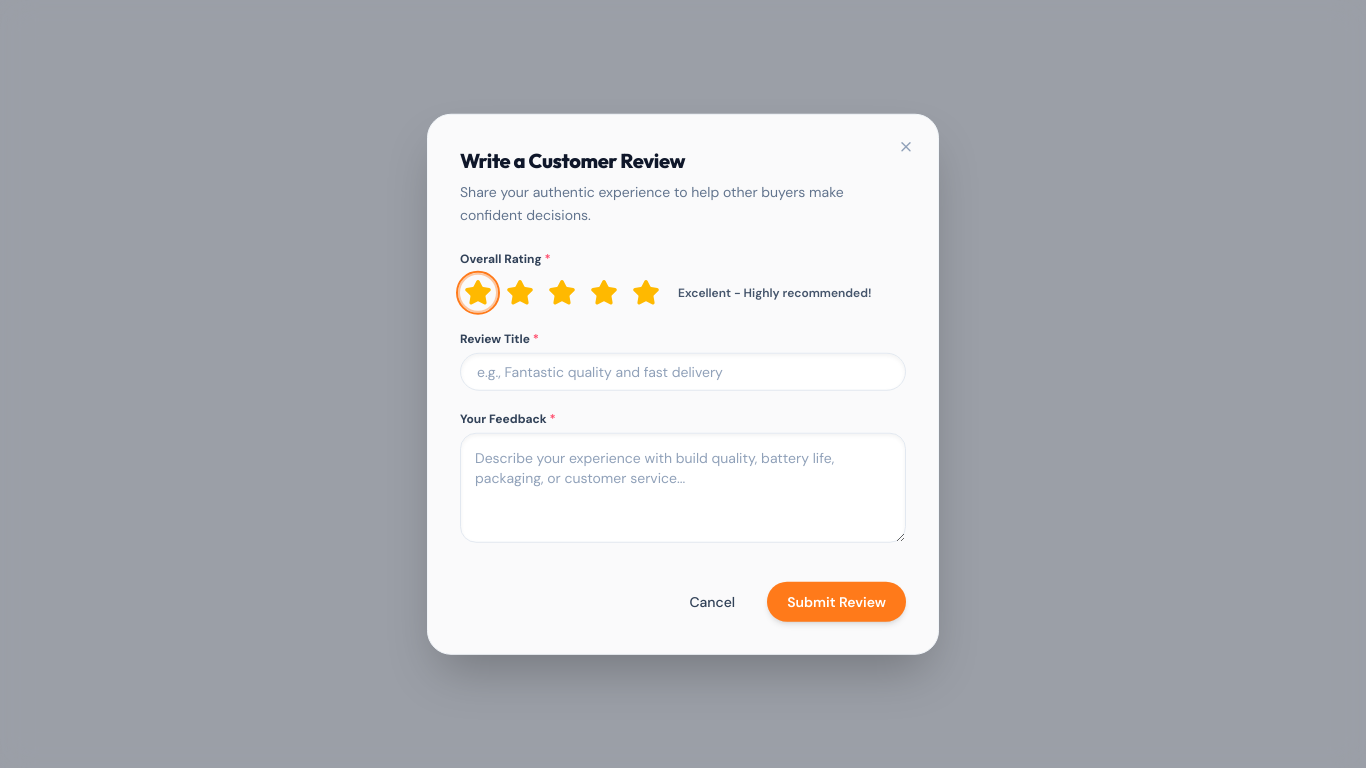
Test: WriteReviewModal component › selects star rating when a star button is clicked
The image size is (1366, 768).
Click the button named "Rate 4 stars": (604, 292) [586,274,622,310]
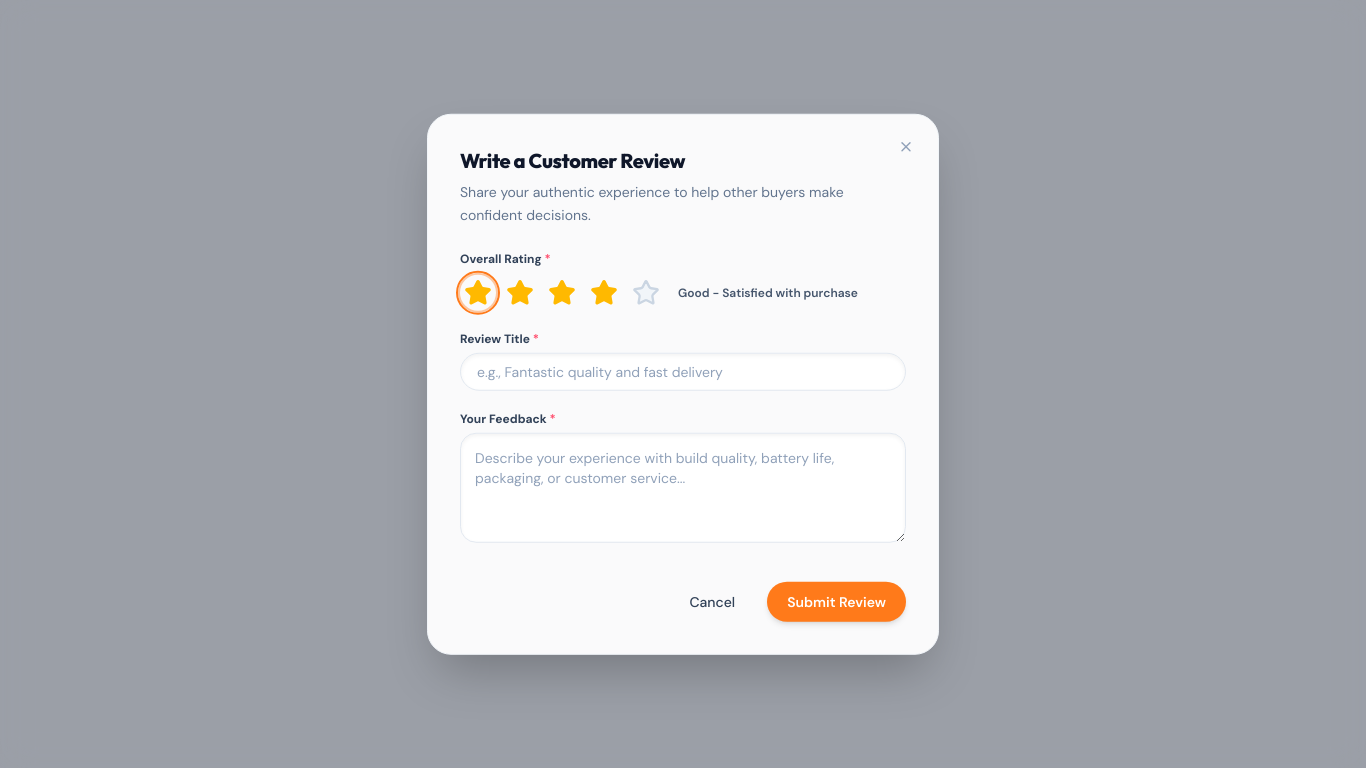
Check: the text "Good - Satisfied with purchase" is shown, box [678,284,858,300]
